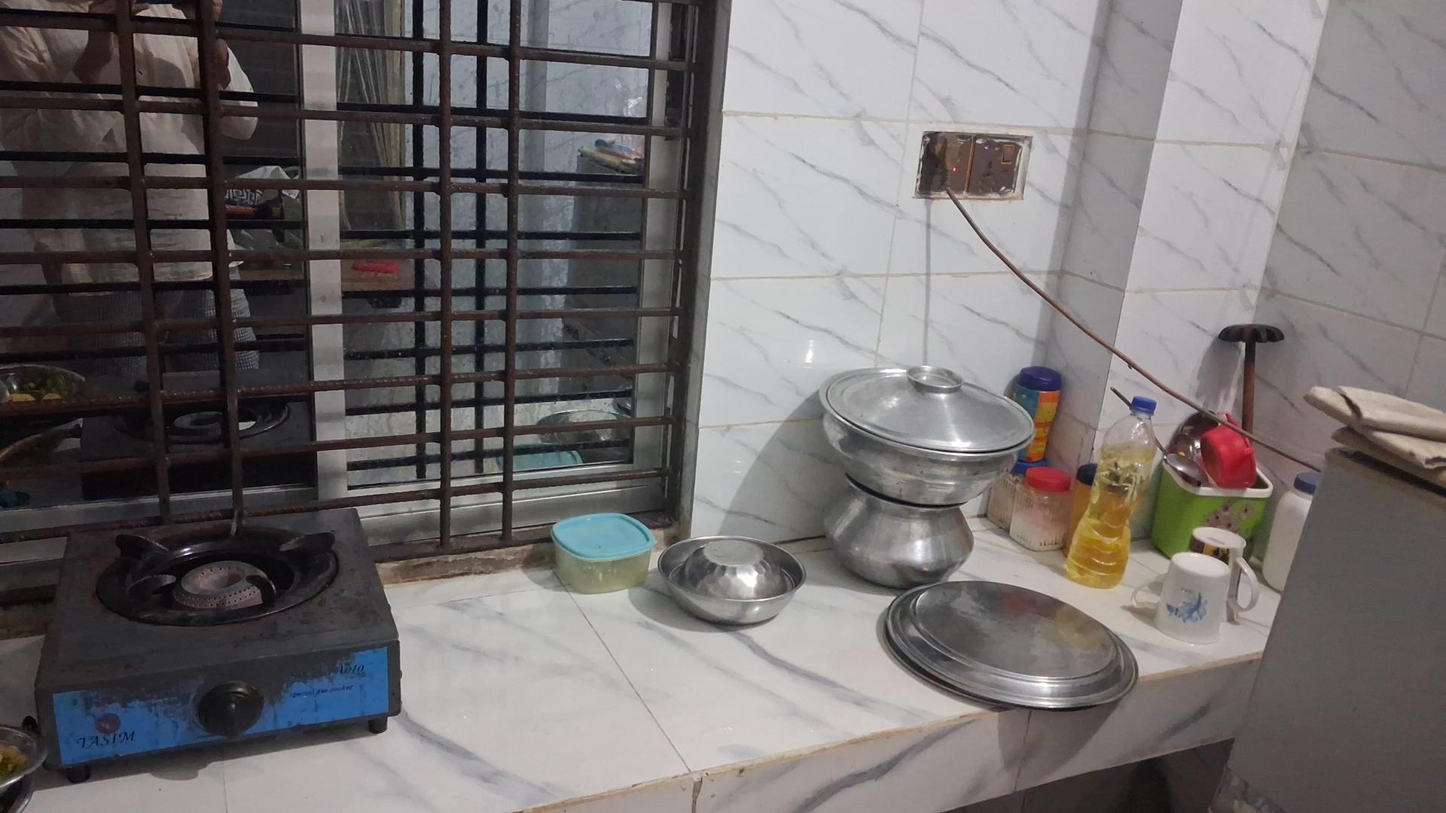Bottle: (1065, 395, 1164, 588)
Bowl: (655, 534, 806, 627)
Cup: (1162, 552, 1237, 645)
Jar: (550, 511, 656, 593), (1260, 475, 1329, 588), (1010, 464, 1072, 557), (1010, 366, 1067, 467)
Plate: (881, 581, 1143, 709)
Pot: (816, 366, 1036, 509), (822, 477, 974, 590)
